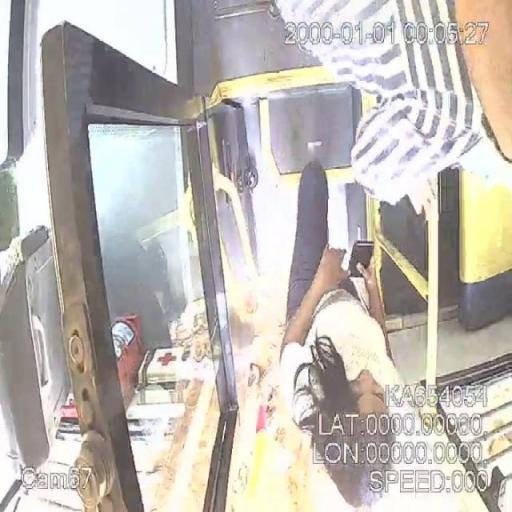persona: (278, 158, 405, 509)
